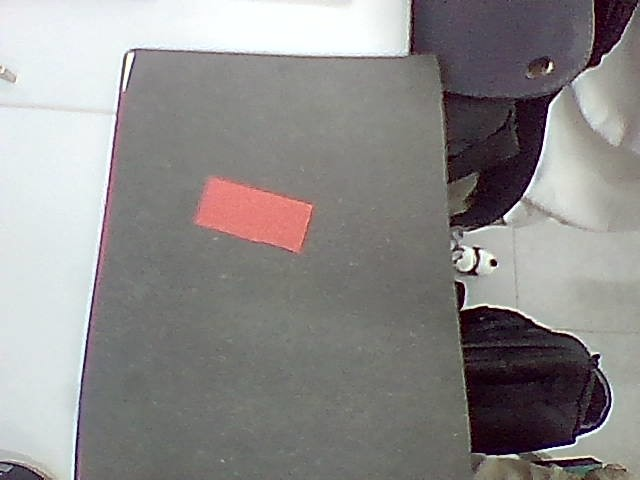card: (194, 177, 311, 252)
